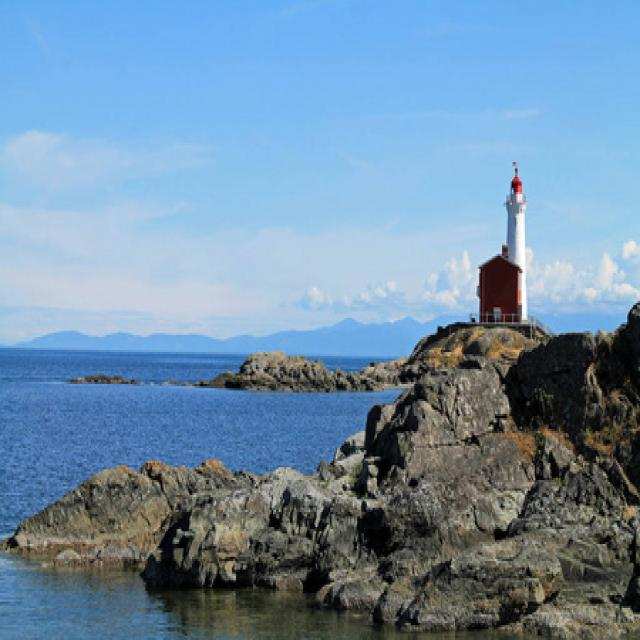reef: (36, 436, 552, 640), (75, 354, 421, 388)
